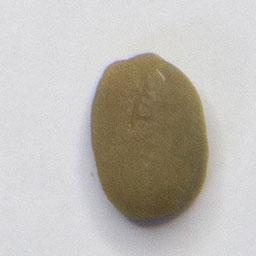premium: (85, 46, 213, 226)
